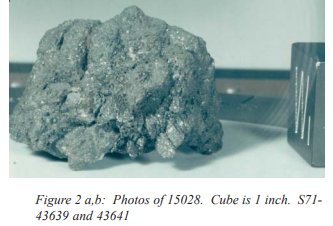Breccia: (10, 7, 232, 165)
